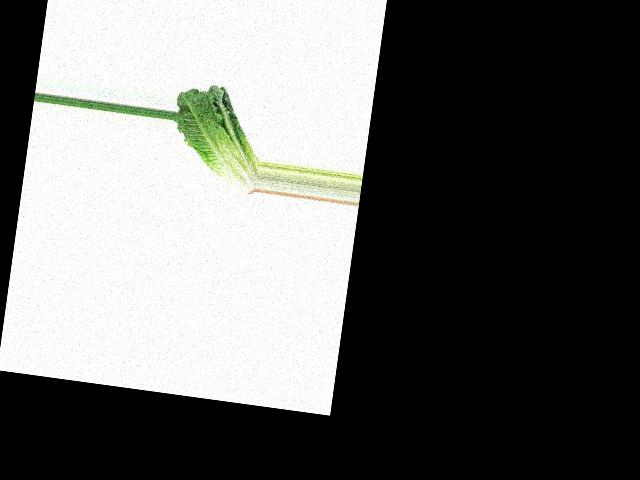lettuce: (165, 81, 269, 201)
